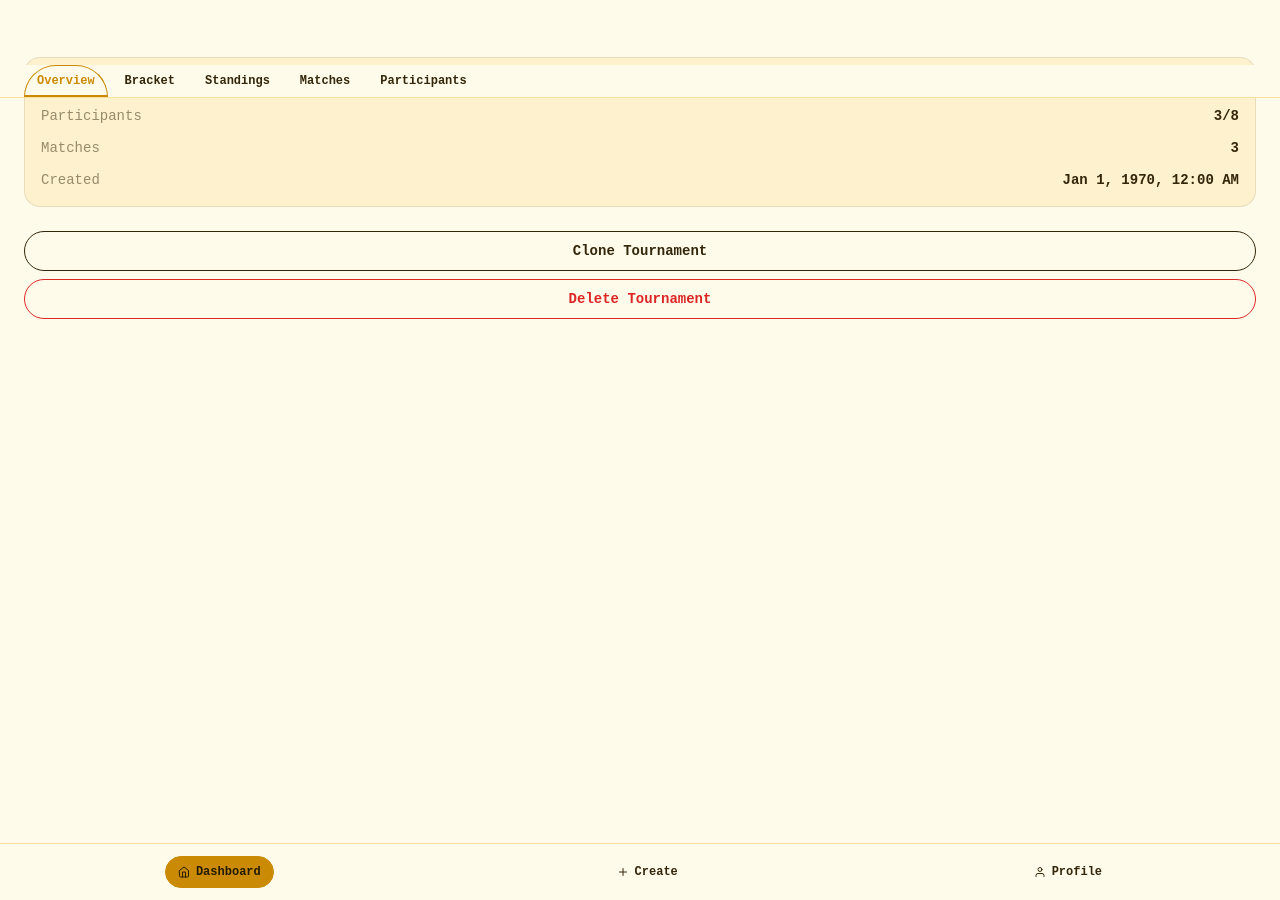
it: TournamentDetailPage › renders standings with medal positions
Click the button "Standings" at (237, 81), box [192,65,283,97]
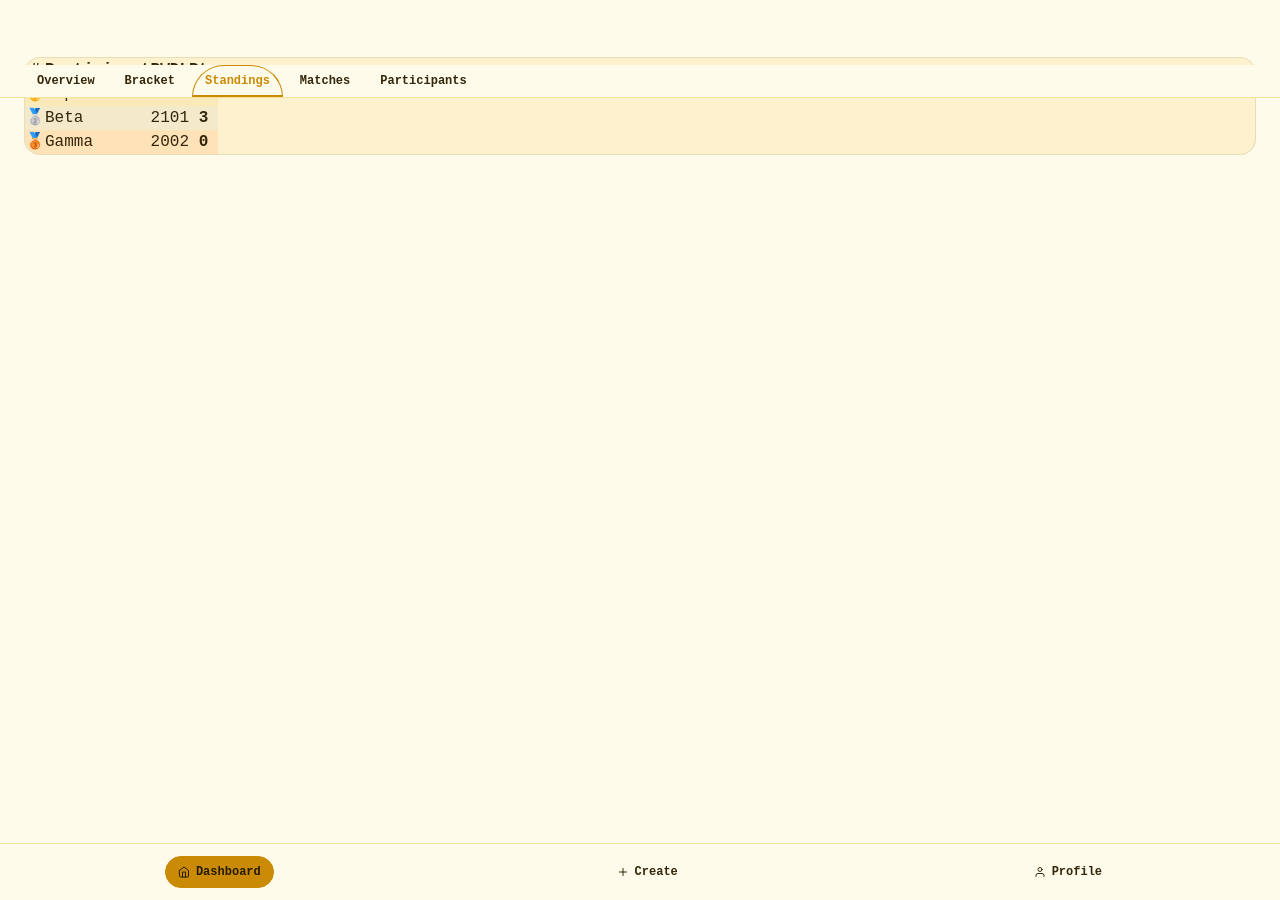
Result: the text "🥇" is shown at [25,82,45,106]
Result: the text "🥈" is shown at [25,106,45,130]
Result: the text "🥉" is shown at [25,130,45,154]
